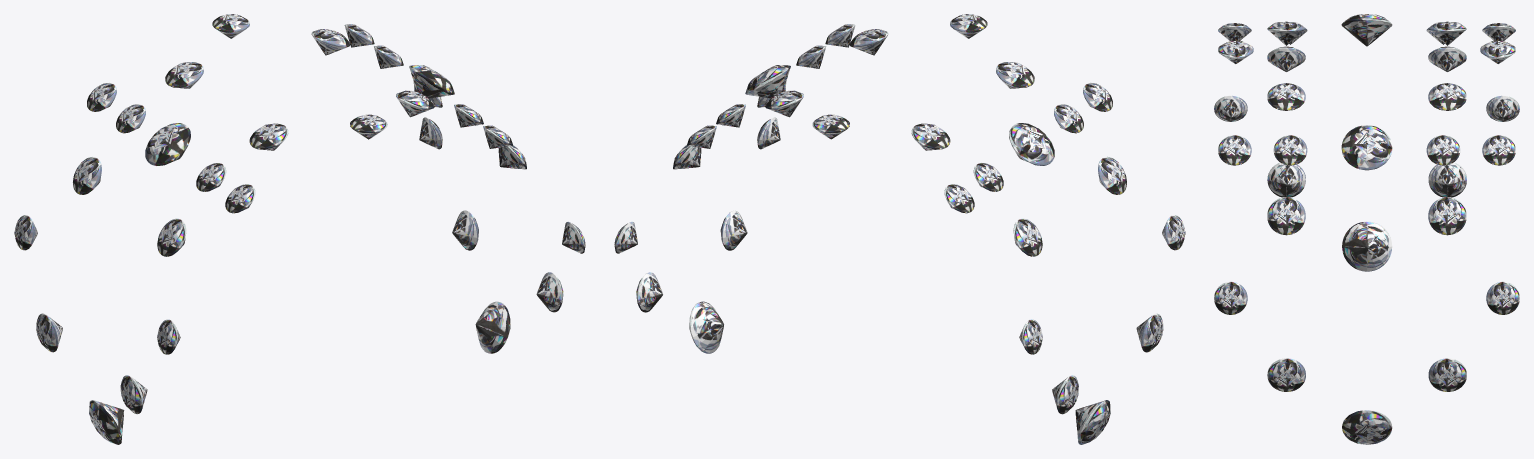
The picture shows the model from 3 angles, left to right: view 1: azimuth 30°, elevation 25°; view 2: azimuth 150°, elevation 25°; view 3: azimuth 270°, elevation 25°; orthographic projection. The views are drawn at different scales.
Visible parts, largest first — view 1: Object_31, Object_11, Object_23, Object_17, Object_27, Object_28, Object_4, Object_5, Object_10, Object_14, Object_22, Object_26 (+11 smaller); view 2: Object_31, Object_11, Object_23, Object_17, Object_28, Object_27, Object_5, Object_4, Object_14, Object_10, Object_22, Object_26 (+11 smaller); view 3: Object_23, Object_17, Object_11, Object_15, Object_16, Object_22, Object_26, Object_10, Object_14, Object_31, Object_12, Object_13 (+16 smaller).
Boxes of the visible parts, <box> form: Object_31: <box>145,123,190,165</box>; Object_11: <box>475,301,510,353</box>; Object_23: <box>89,400,124,444</box>; Object_17: <box>409,65,454,98</box>; Object_27: <box>157,218,186,256</box>; Object_28: <box>73,157,101,194</box>; Object_4: <box>249,123,288,150</box>; Object_5: <box>165,62,203,88</box>; Object_10: <box>536,272,563,312</box>; Object_14: <box>452,210,478,250</box>; Object_22: <box>120,375,147,414</box>; Object_26: <box>36,313,62,352</box>; Object_31: <box>1009,123,1054,165</box>; Object_11: <box>689,301,723,353</box>; Object_23: <box>1075,400,1110,444</box>; Object_17: <box>745,65,790,98</box>; Object_28: <box>1013,218,1042,256</box>; Object_27: <box>1098,156,1126,194</box>; Object_5: <box>911,123,950,150</box>; Object_4: <box>996,62,1034,88</box>; Object_14: <box>636,272,662,312</box>; Object_10: <box>720,210,747,250</box>; Object_22: <box>1136,313,1163,352</box>; Object_26: <box>1052,375,1078,414</box>; Object_23: <box>1342,221,1392,271</box>; Object_17: <box>1341,125,1392,170</box>; Object_11: <box>1342,410,1392,444</box>; Object_15: <box>1267,197,1305,235</box>; Object_16: <box>1428,197,1466,235</box>; Object_22: <box>1267,162,1305,197</box>; Object_26: <box>1428,162,1466,197</box>; Object_10: <box>1267,358,1305,391</box>; Object_14: <box>1428,358,1466,391</box>; Object_31: <box>1341,14,1392,46</box>; Object_12: <box>1486,281,1519,314</box>; Object_13: <box>1214,281,1247,314</box>.
Size of the model in its own units: 19.99 by 12.83 by 14.51.
1 material, 1 textured.
